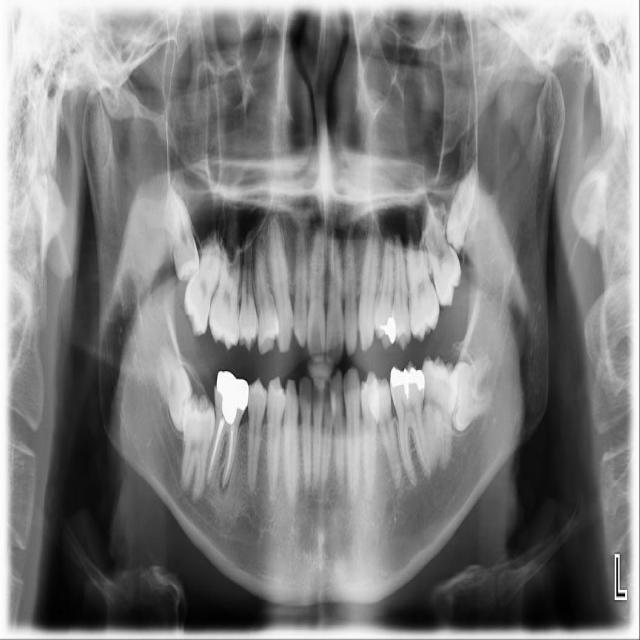3M ESPE Implant: (162, 186, 202, 283)
52: (205, 368, 257, 420), (387, 359, 429, 414), (371, 297, 397, 352)
73: (205, 409, 242, 489)
BioHorizons Implant: (414, 198, 470, 310)
BioLife Implant: (440, 157, 484, 254)
Biomet 3i Implant: (448, 354, 491, 433)
Blue Sky Bio Implant: (421, 355, 462, 483)
Caries: (175, 230, 231, 339)
